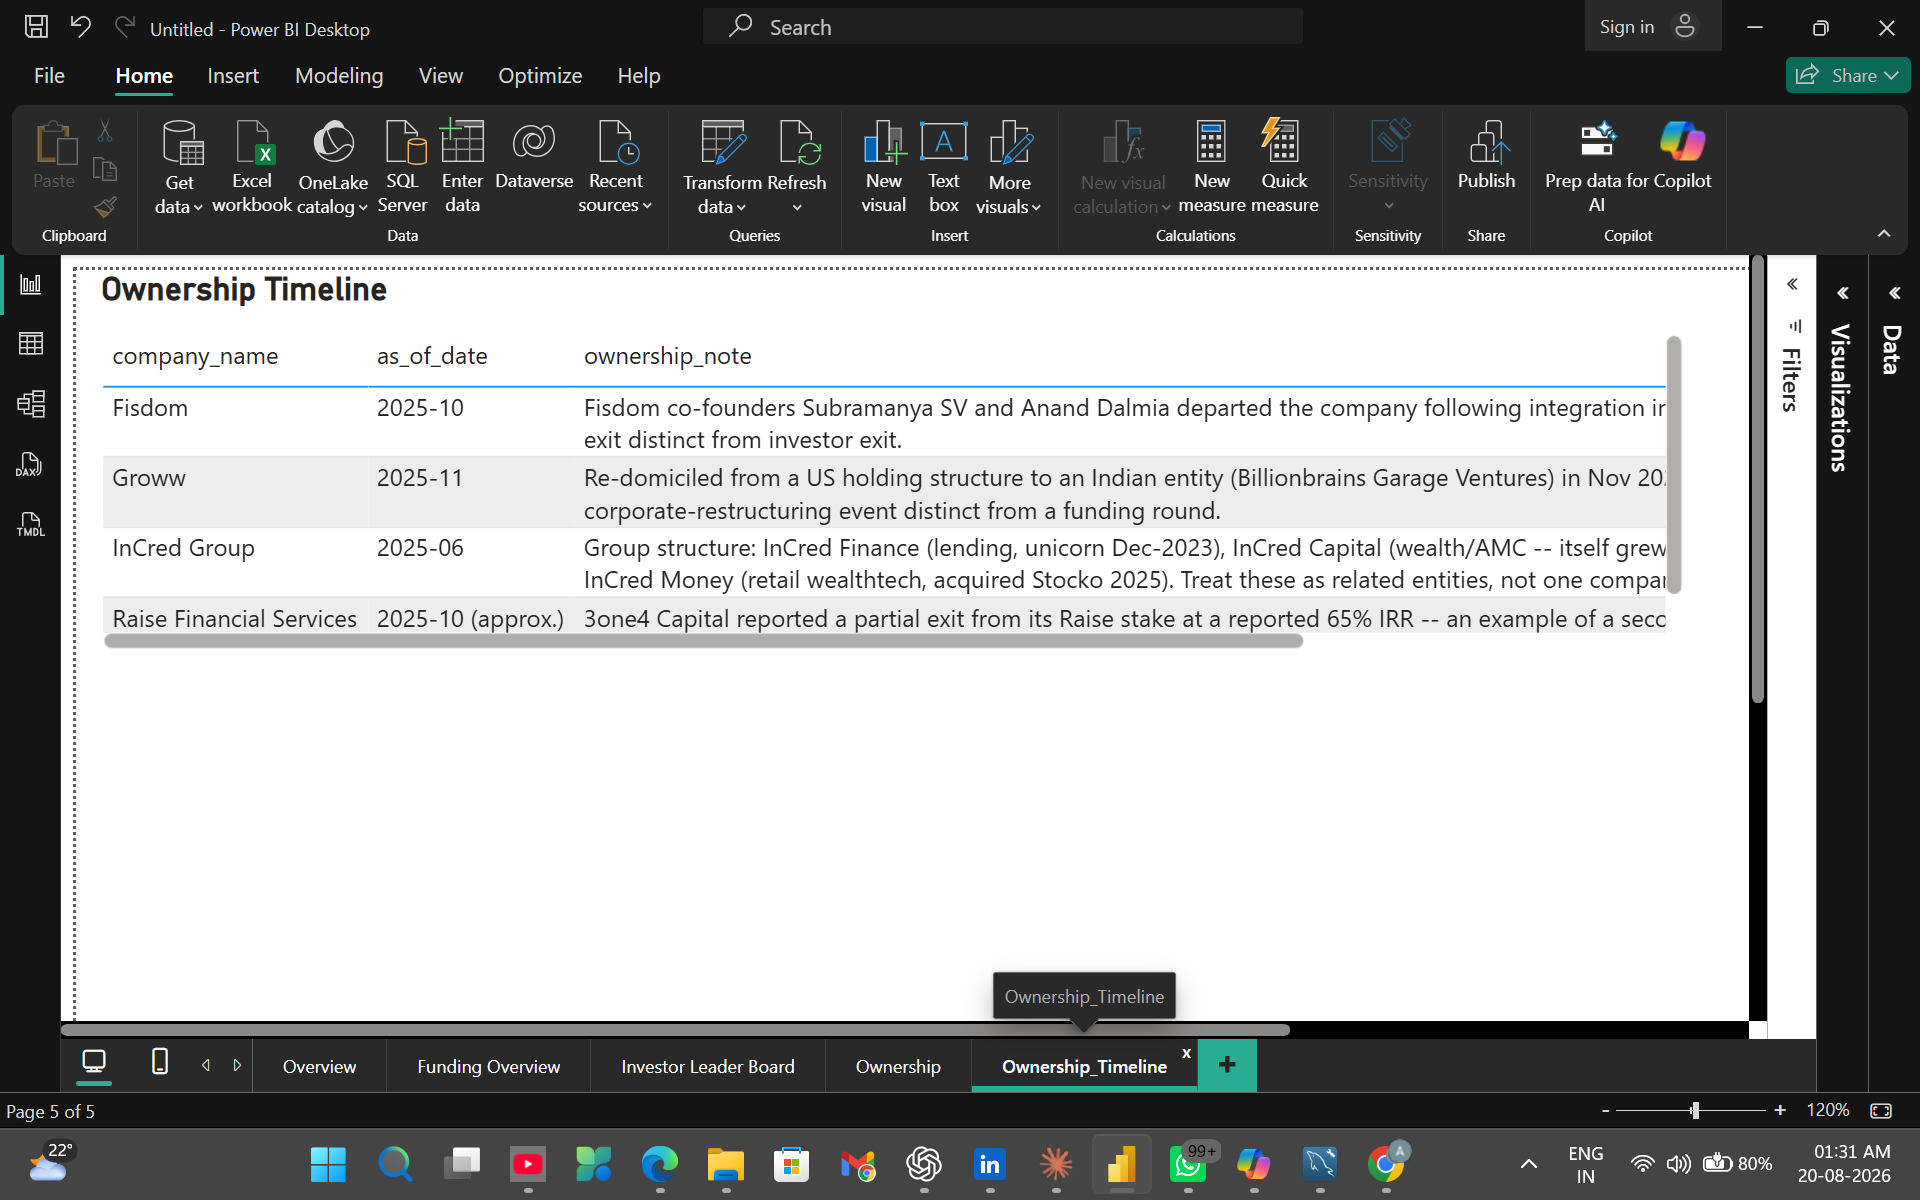

The page's visual inventory and layout, read from the dashboard file:
{"tool":"powerbi","page":{"name":"Ownership_Timeline","canvas":[1280,720],"ordinal":4},"visuals":[{"type":"tableEx","title":"Ownership Timeline","fields":{"Values":["private_markets_intel ownership_notes.company_name","private_markets_intel ownership_notes.as_of_date","private_markets_intel ownership_notes.ownership_note"]},"box":[9.4,0,888.2,215.4],"z":0}]}

Visuals, with their boxes on the page's 1280x720 design canvas (x1, y1, x2, y2). These are canvas units, not pixel positions in the 1920x1200 screenshot, which may show the page scaled, cropped or inside an application window:
"Ownership Timeline" tableEx: detection(9, 0, 898, 215)
